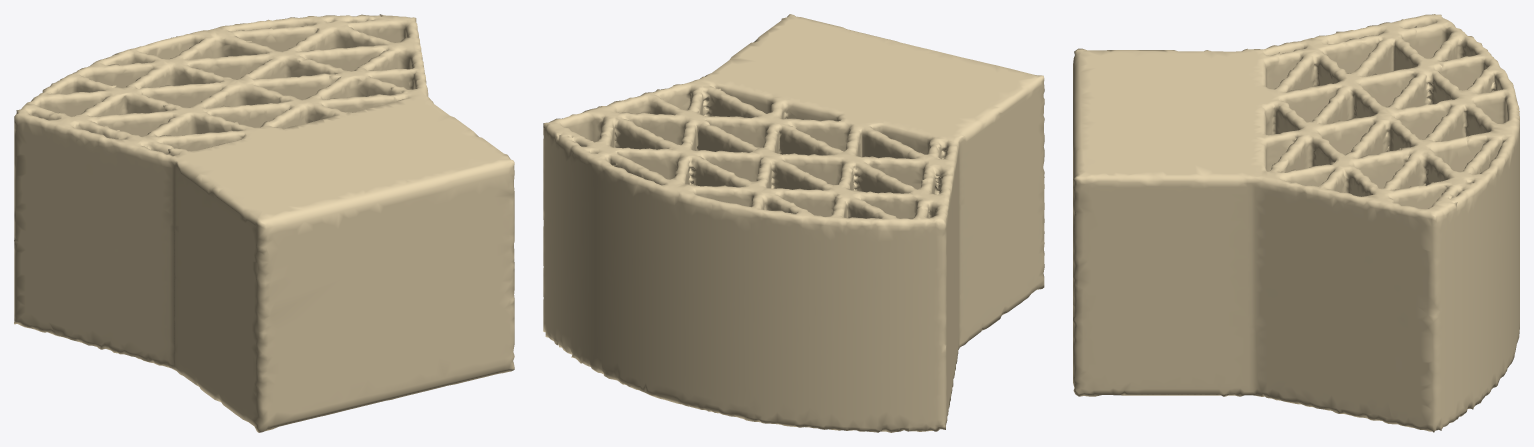
The model's file is ollie-paw-shape-035.glb.
The picture shows the model from 3 angles, left to right: view 1: azimuth 30°, elevation 25°; view 2: azimuth 150°, elevation 25°; view 3: azimuth 270°, elevation 25°; orthographic projection. The views are drawn at different scales.
Parts seen in each view (by area): view 1: world; view 2: world; view 3: world.
Part boxes in pixels (x1,y1,x2,y2): world: (14,14,514,432); world: (543,14,1044,432); world: (1073,14,1519,432).
Size of the model in its own units: 39.88 by 20 by 37.
